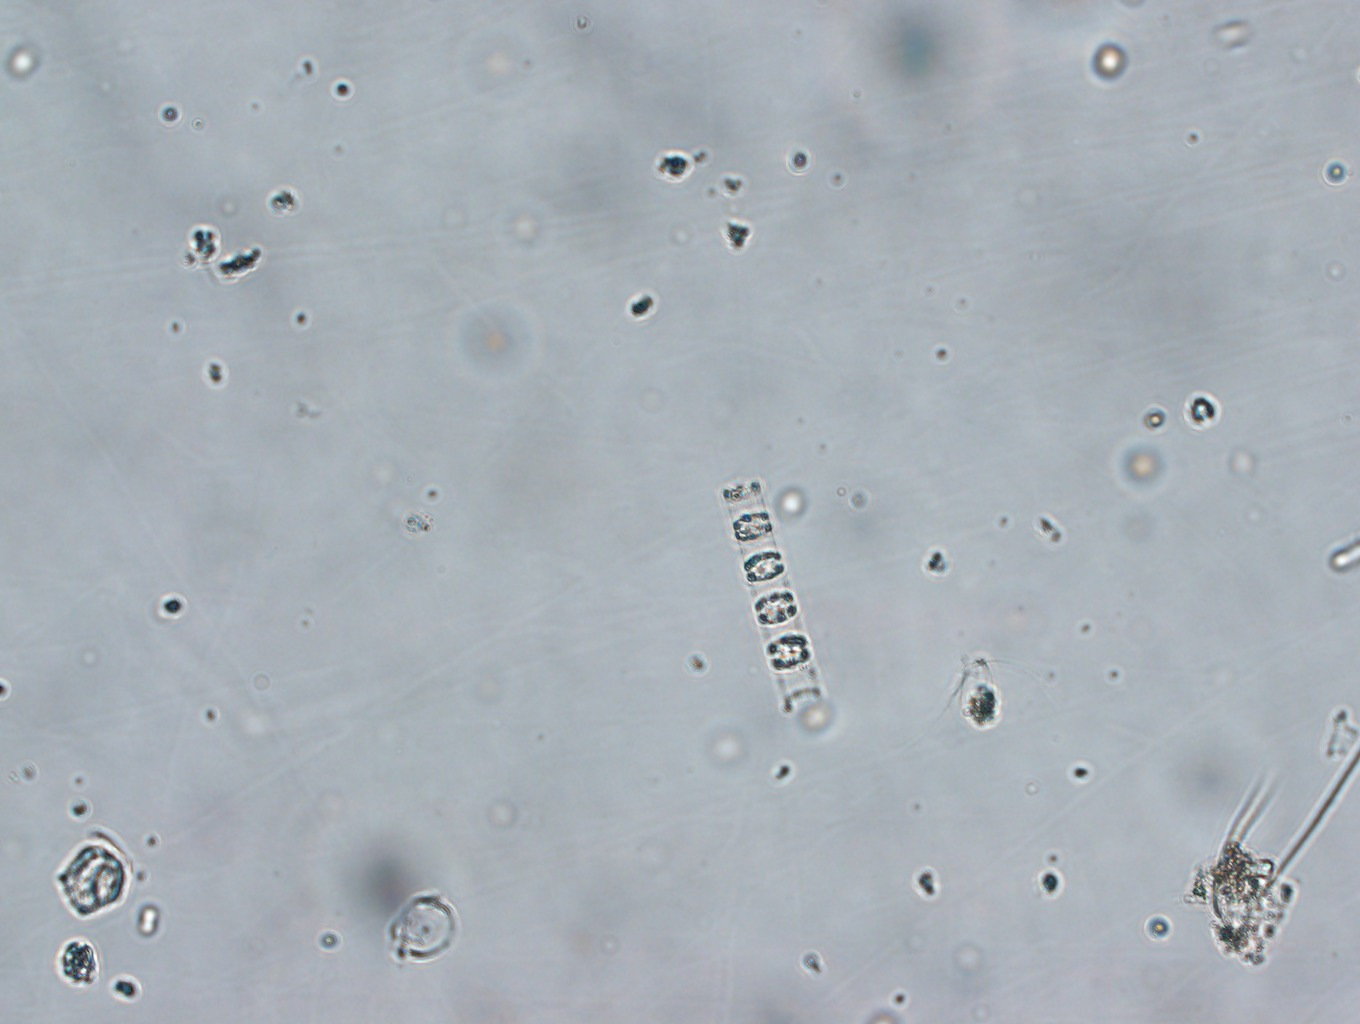skeletonema: (727, 477, 822, 715)
